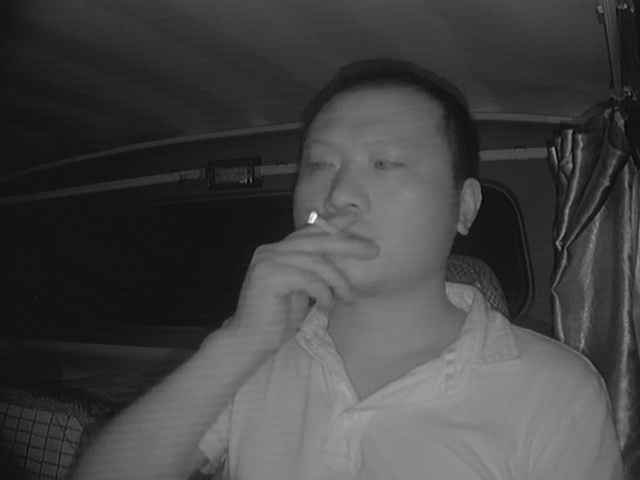hand: (256, 216, 369, 341)
